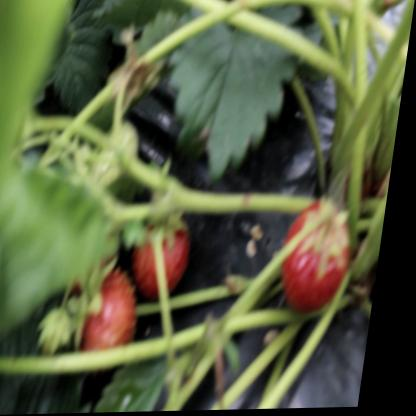ripe: (276, 190, 370, 320), (131, 185, 220, 296), (83, 264, 154, 359)
